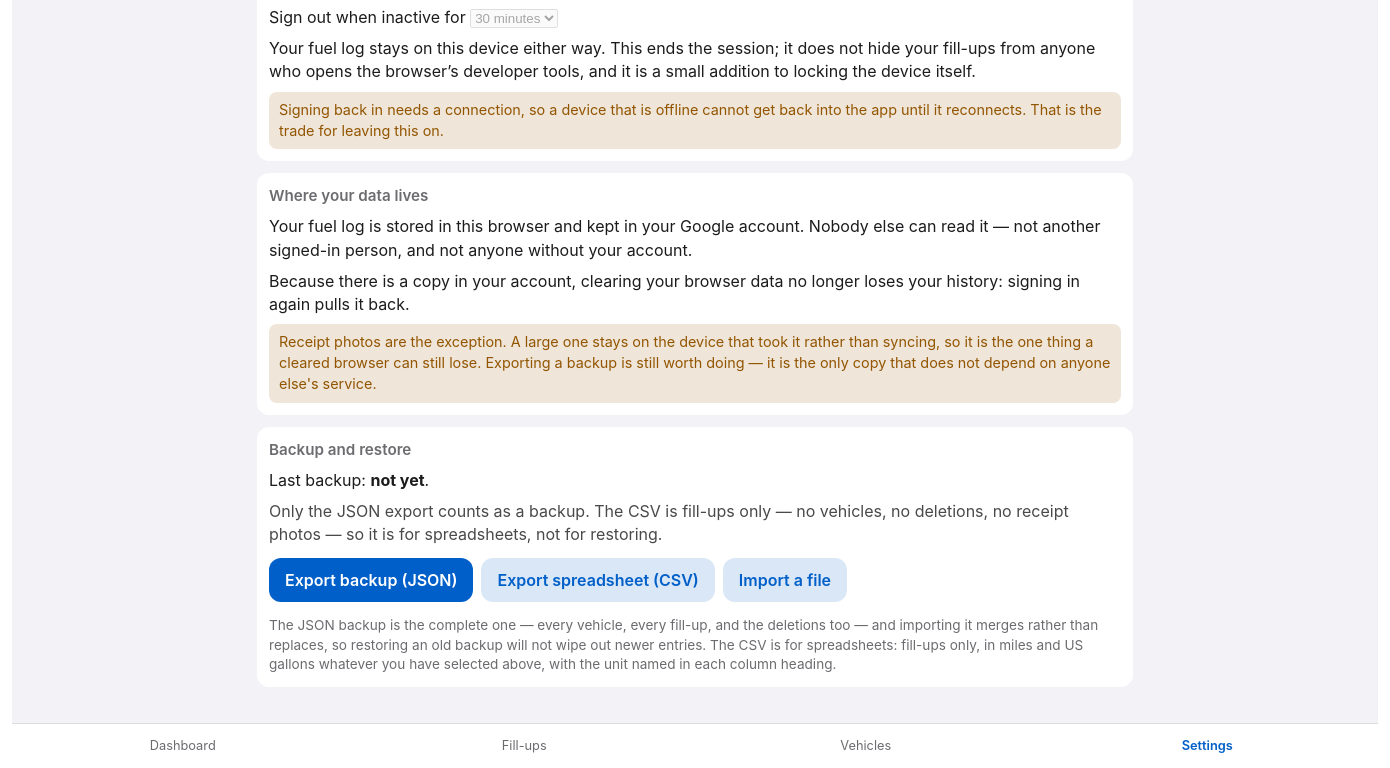
Test case: Settings › a JSON export from Settings does count
(page scrolled)
Click the button "Export backup (JSON)": click(371, 580) x1=269 y1=558 x2=474 y2=602
(page scrolled)
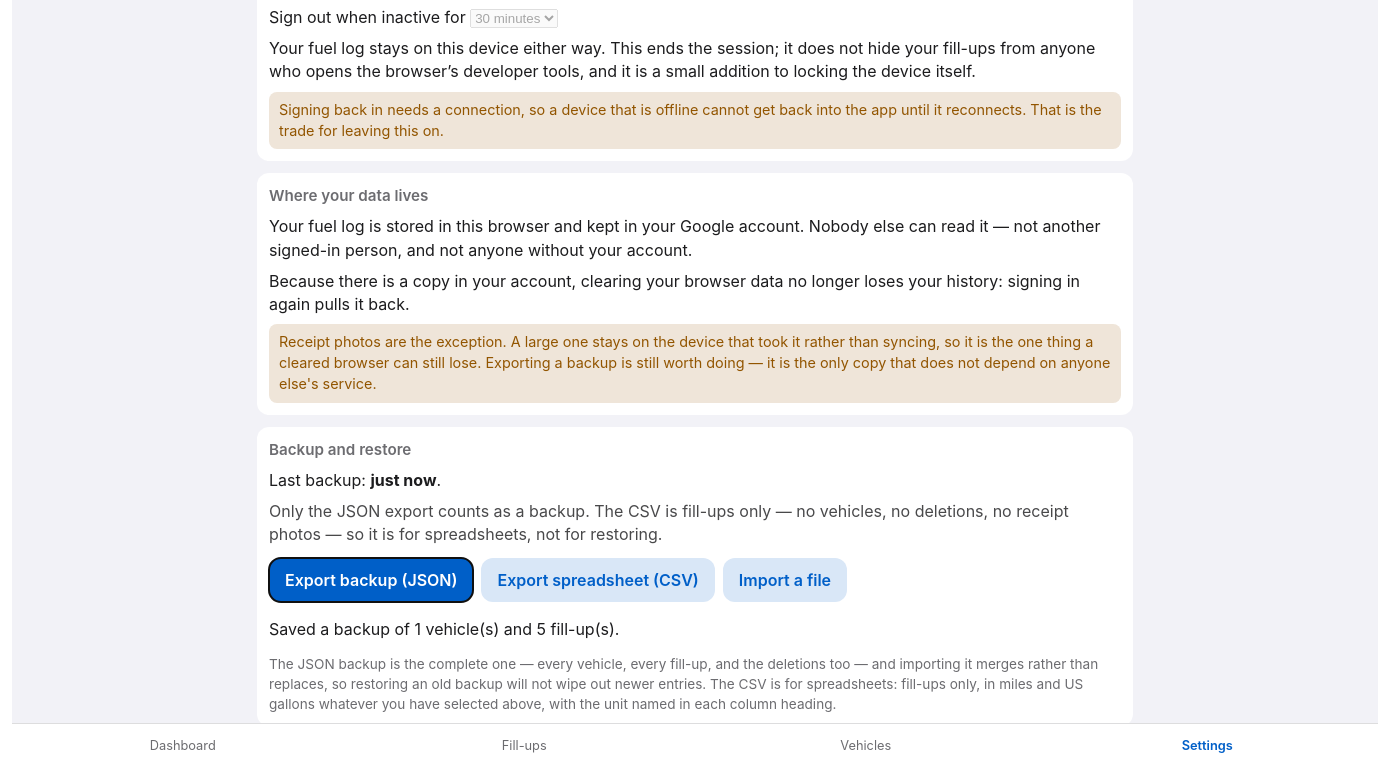
Result: the text "Saved a backup of 1 vehicle(s) and 5 fill-up(s)." is shown at x1=269 y1=619 x2=619 y2=639
